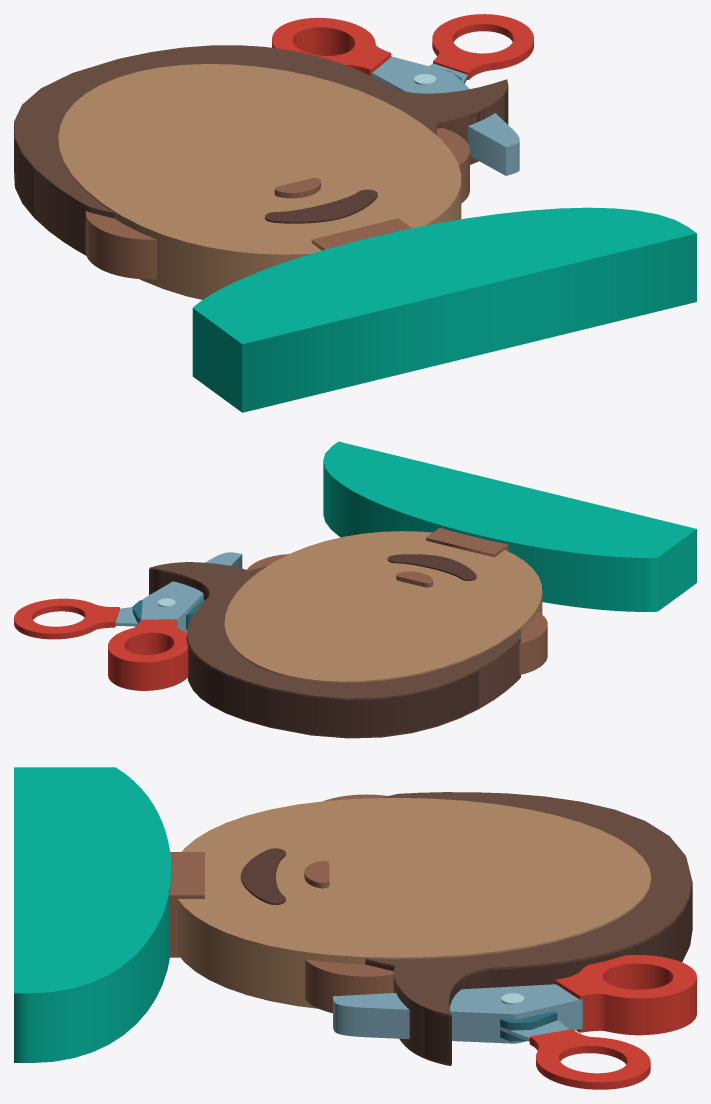
The model's file is emoji_u1f487_1f3fd_200d_2642.glb.
The picture shows the model from 3 angles, top to bottom: view 1: azimuth 30°, elevation 25°; view 2: azimuth 150°, elevation 25°; view 3: azimuth 270°, elevation 25°; orthographic projection. The views are drawn at different scales.
Parts seen in each view (by area): view 1: emoji_u1f487_1f3fd_200d_2642; view 2: emoji_u1f487_1f3fd_200d_2642; view 3: emoji_u1f487_1f3fd_200d_2642.
Boxes of the visible parts, <box> form: emoji_u1f487_1f3fd_200d_2642: <box>14,14,696,412</box>; emoji_u1f487_1f3fd_200d_2642: <box>14,441,696,738</box>; emoji_u1f487_1f3fd_200d_2642: <box>14,767,696,1089</box>.
Bounding box in the file's own units: 0.0331 × 0.0038 × 0.0337.
